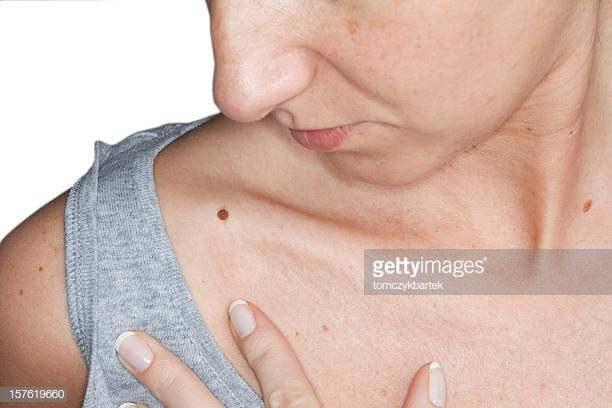mole: (207, 204, 238, 225), (575, 194, 596, 219), (9, 281, 29, 304), (31, 261, 51, 276)
